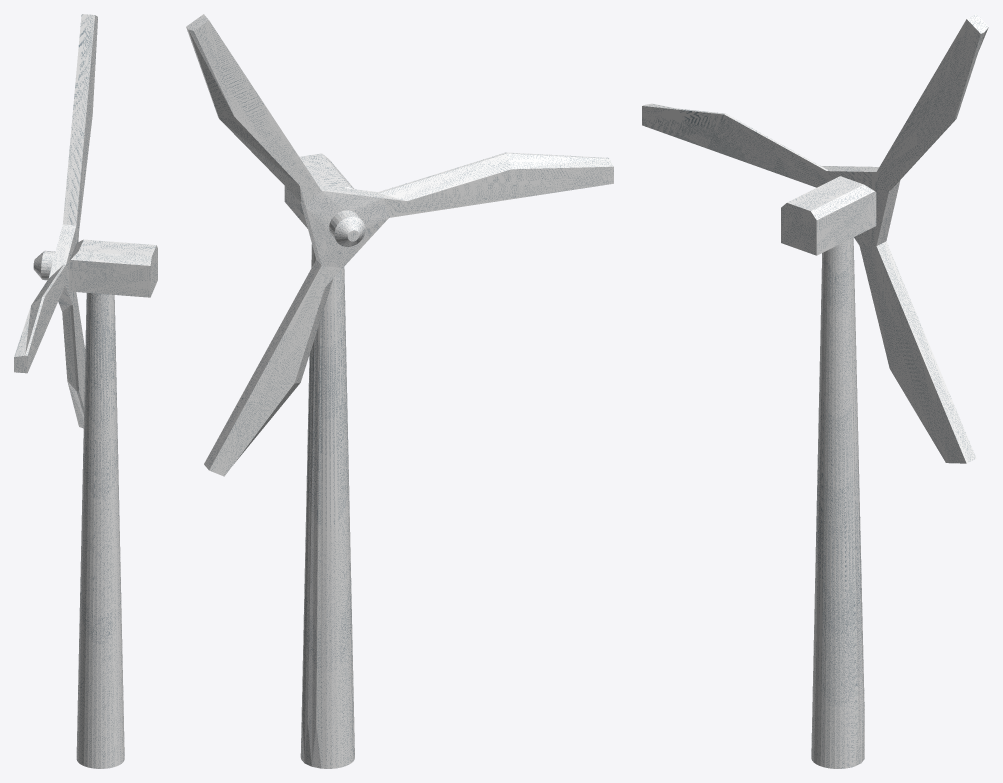
3 renders of one model, left to right at view 1: azimuth 30°, elevation 25°; view 2: azimuth 150°, elevation 25°; view 3: azimuth 270°, elevation 25°, orthographic. The views are drawn at different scales.
Visible parts, largest first — view 1: skp7C37 (×3); view 2: skp7C37 (×3); view 3: skp7C37 (×3).
Boxes of the visible parts, <box> form: skp7C37 (×3): <box>14,14,157,768</box>; skp7C37 (×3): <box>186,14,613,768</box>; skp7C37 (×3): <box>642,14,988,768</box>.
Size of the model in its own units: 3498 by 4070 by 9933.
